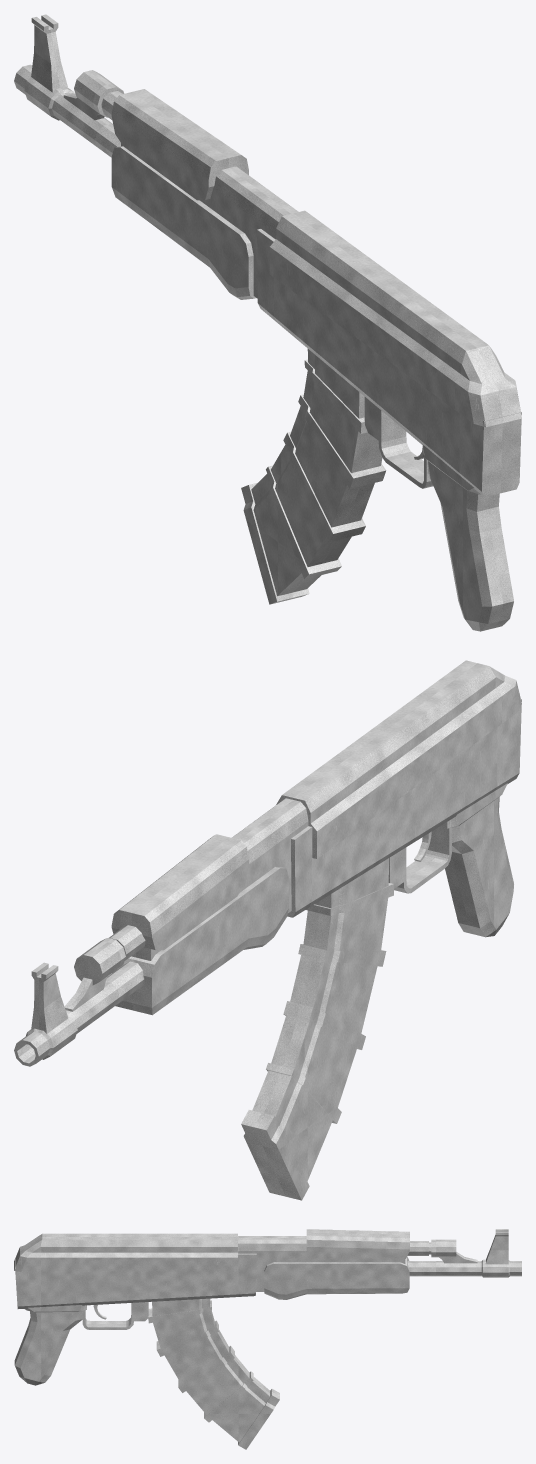
Rendered from rifle2.obj.
3 renders of one model, top to bottom at view 1: azimuth 30°, elevation 25°; view 2: azimuth 150°, elevation 25°; view 3: azimuth 270°, elevation 25°, orthographic. The views are drawn at different scales.
Visible parts, largest first — view 1: AssaultRifle_3_Cube.138; view 2: AssaultRifle_3_Cube.138; view 3: AssaultRifle_3_Cube.138.
Part boxes in pixels (x1=…): AssaultRifle_3_Cube.138: x1=14, y1=14, x2=521, y2=631; AssaultRifle_3_Cube.138: x1=14, y1=660, x2=521, y2=1200; AssaultRifle_3_Cube.138: x1=14, y1=1229, x2=521, y2=1449.
Bounding box in the file's own units: 0.0588 × 0.4804 × 1.03.
Materials: 5 (5 with a texture image).
